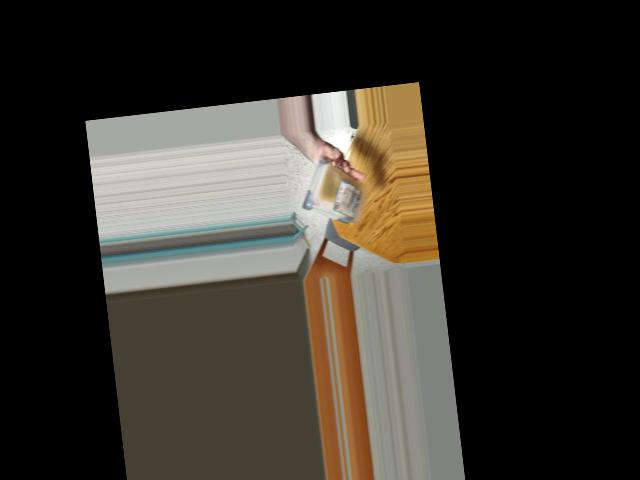cheese: (309, 159, 365, 225)
